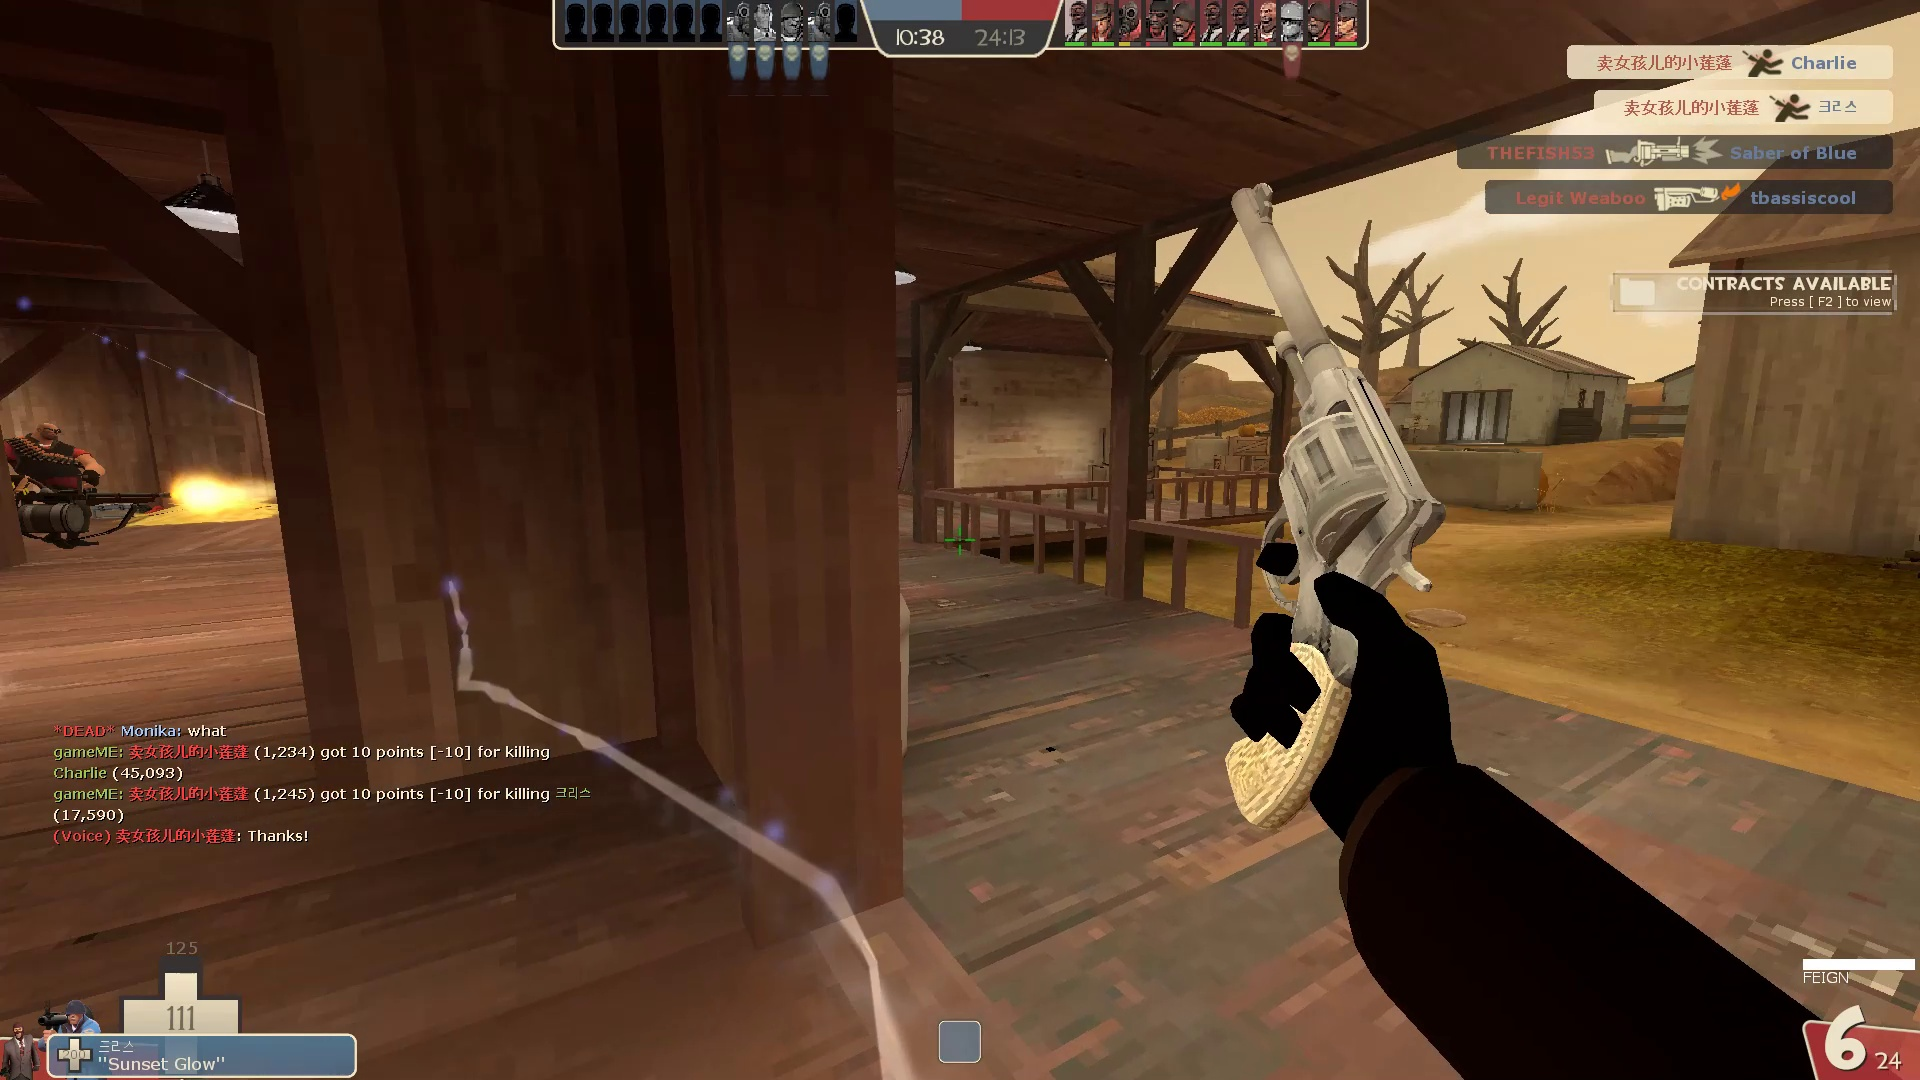red_heavy: (1, 414, 169, 549)
